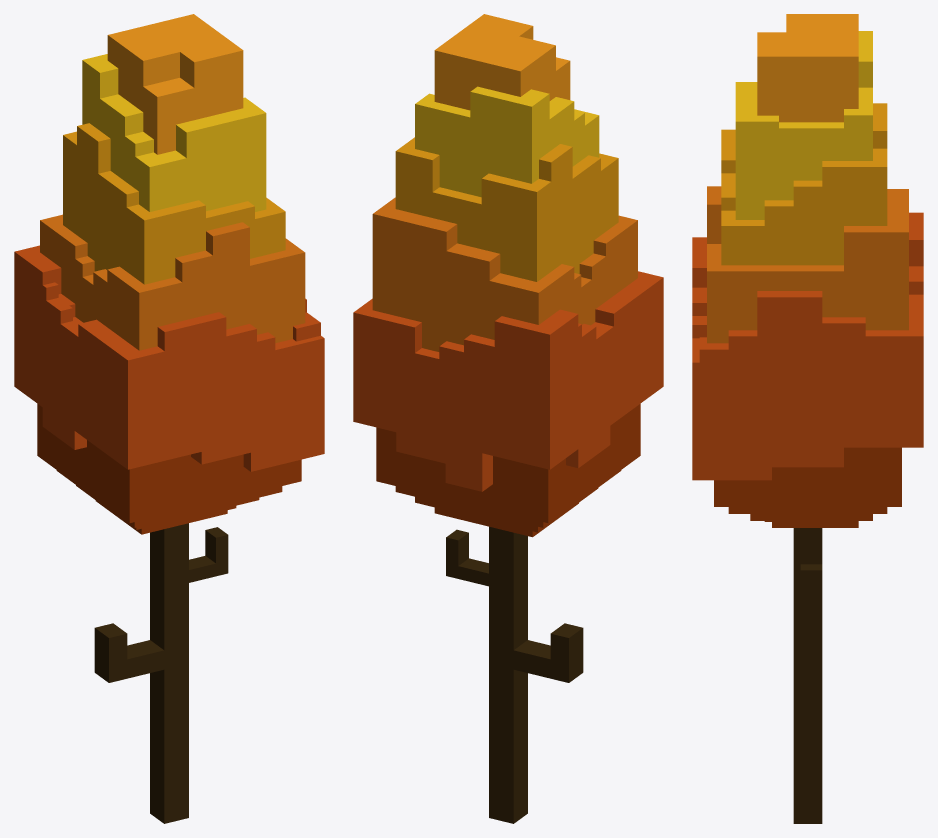
File: Tree2_Forest.fbx
3 views of the same model, side by side, from view 1: azimuth 30°, elevation 25°; view 2: azimuth 150°, elevation 25°; view 3: azimuth 270°, elevation 25° (orthographic).
Parts seen in each view (by area): view 1: Box; view 2: Box; view 3: Box.
Part boxes in pixels (left/top/right/bottom): Box: left=14, top=14, right=324, bottom=823; Box: left=353, top=14, right=663, bottom=823; Box: left=692, top=14, right=923, bottom=823.
Size of the model in its own units: 32 by 120 by 32.
